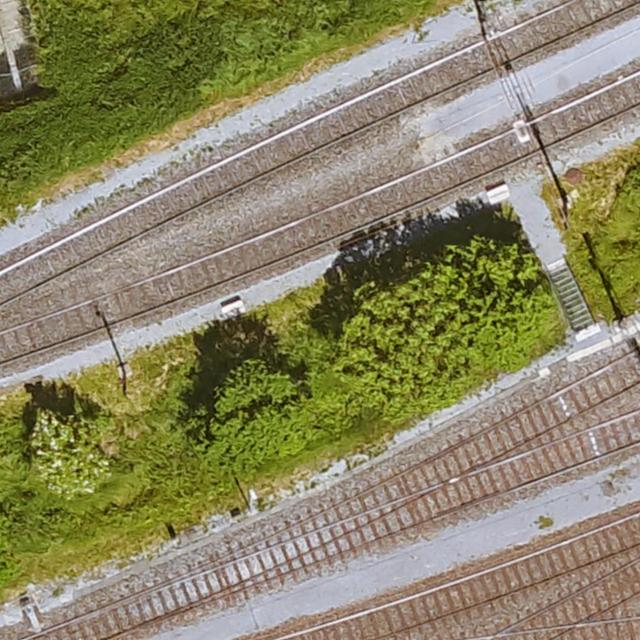tree: (334, 284, 457, 399), (429, 245, 545, 358), (210, 358, 308, 466), (31, 414, 109, 496)
